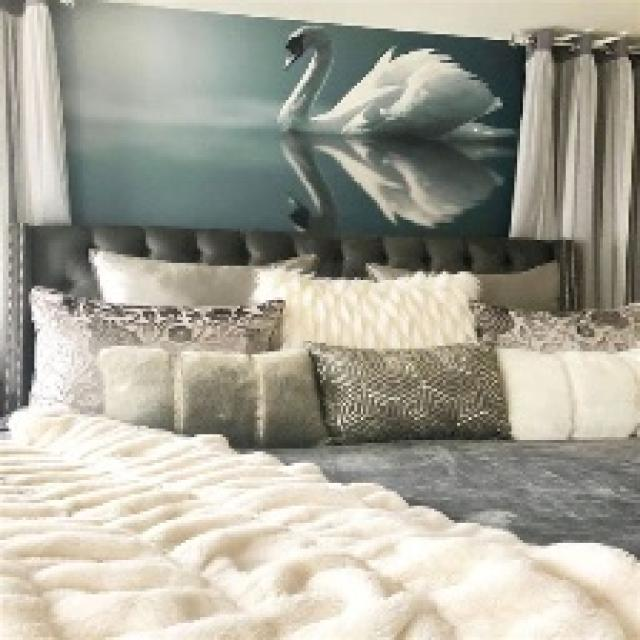Bed: (0, 220, 637, 637)
